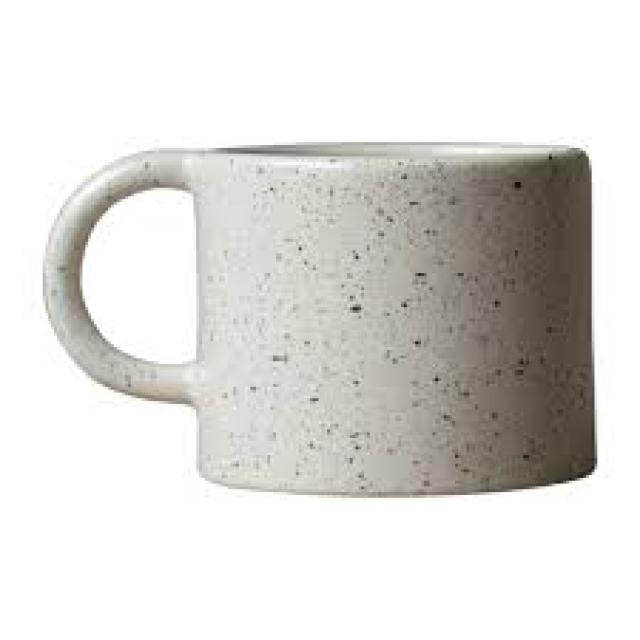taza: (42, 143, 600, 499)
